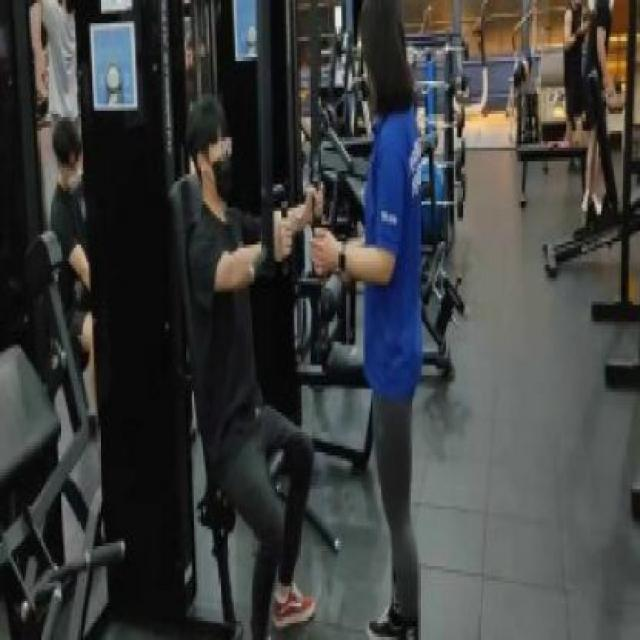chest fly machine: (70, 0, 336, 640)
